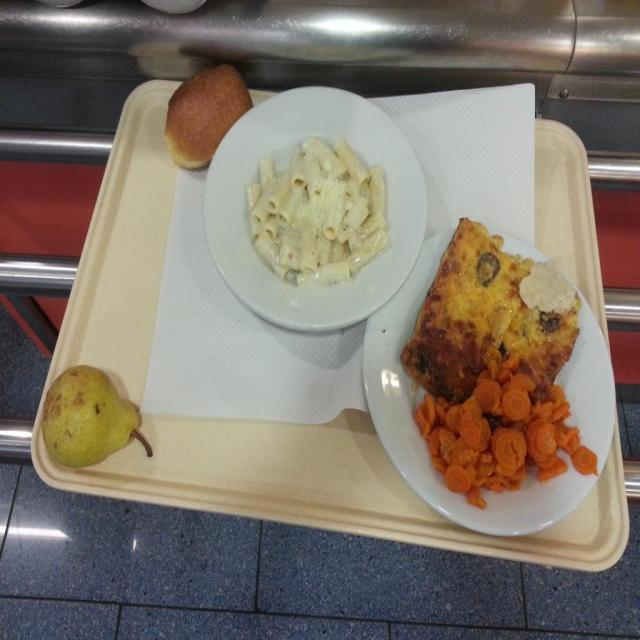plate: (362, 224, 617, 544), (202, 88, 427, 332), (36, 368, 146, 467), (165, 64, 257, 172)
